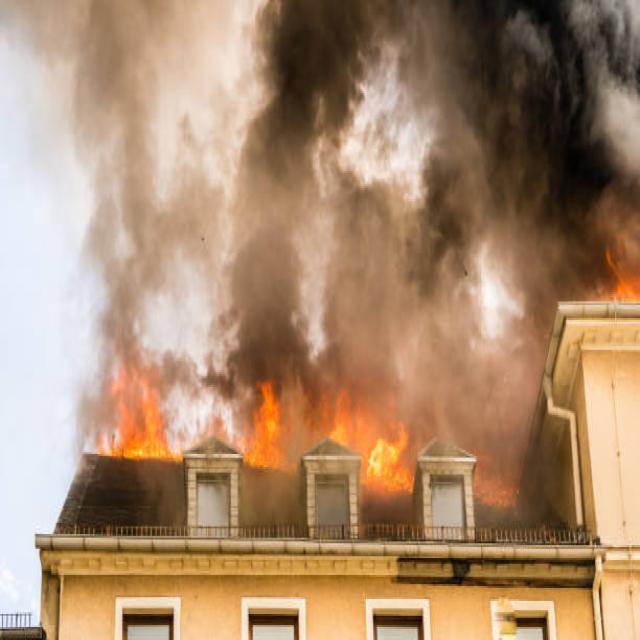Fire: (102, 369, 529, 501), (585, 231, 640, 309)
Smoke: (83, 1, 640, 299), (110, 220, 536, 478)
